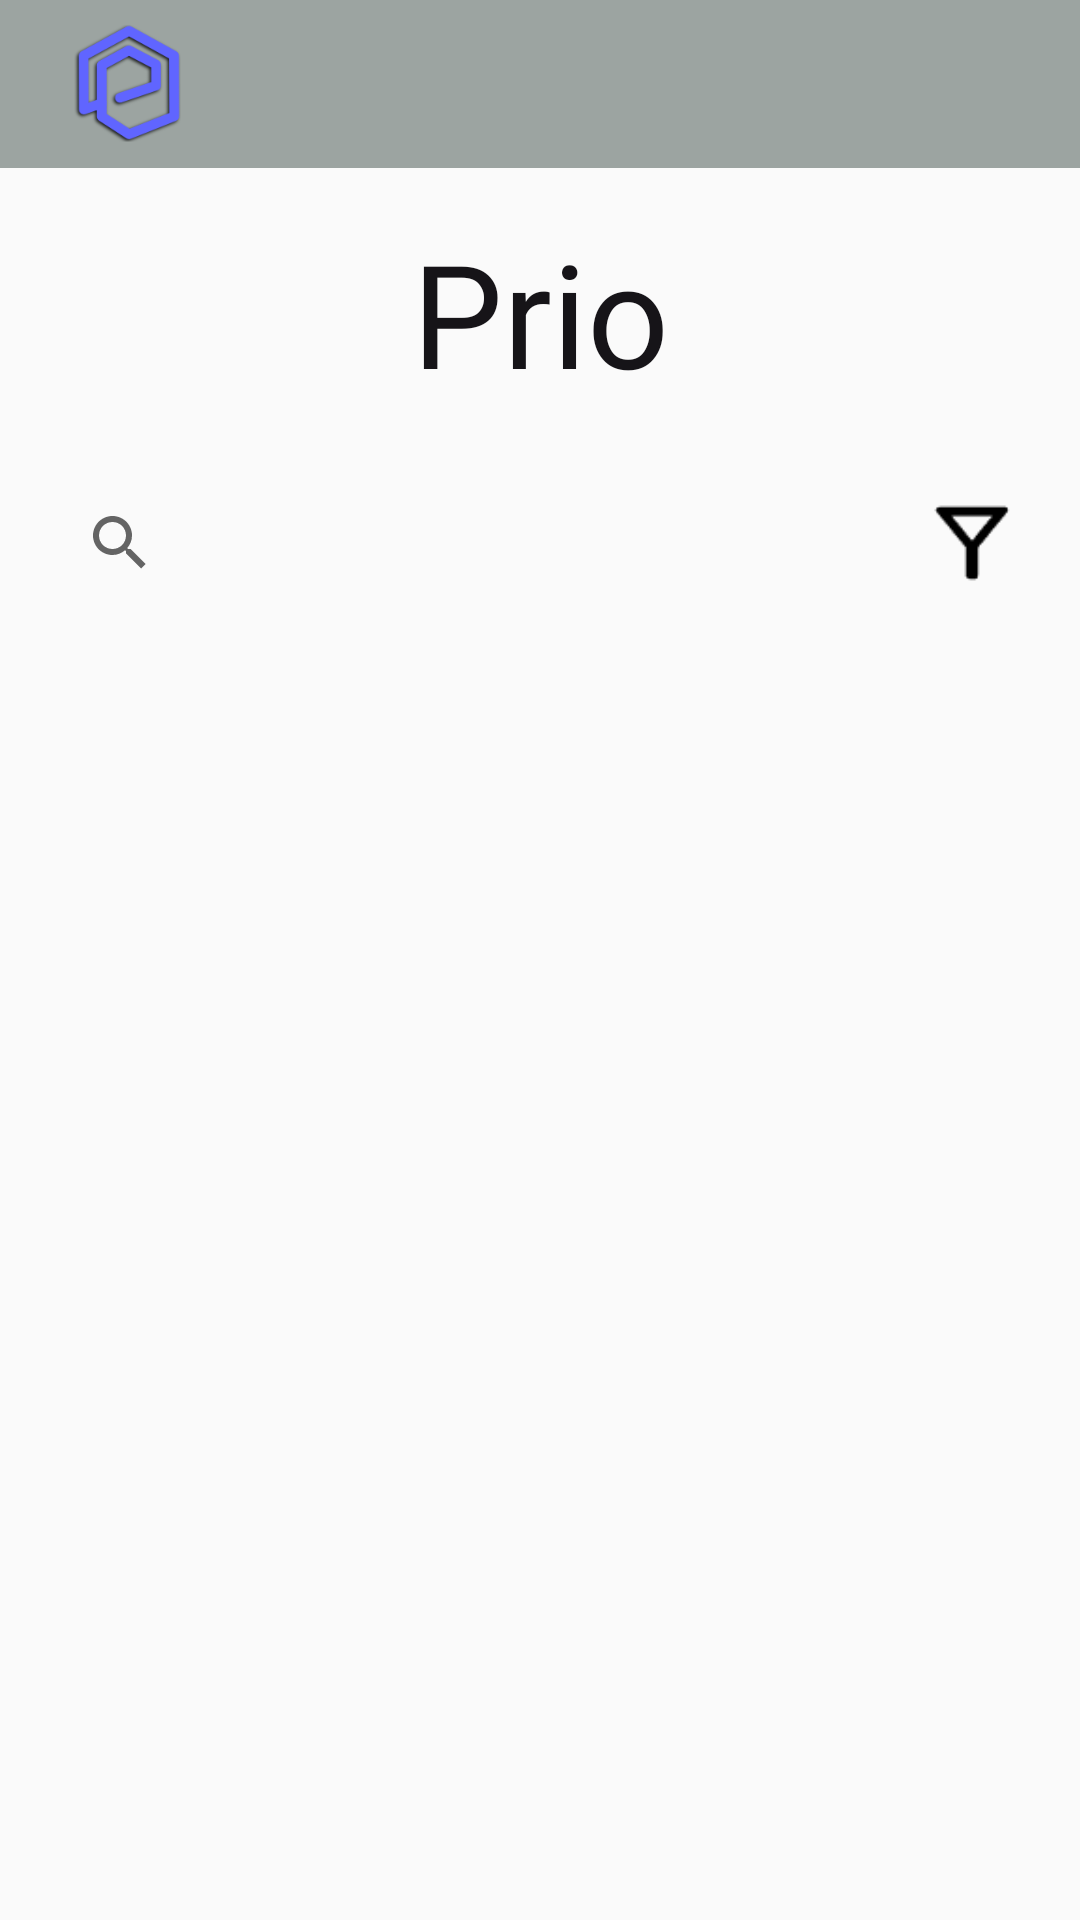

Icons on this 1080px×1920px Android screen, each with its box as (x1, y1, x2, y2):
filter: (934, 505, 1009, 581)
